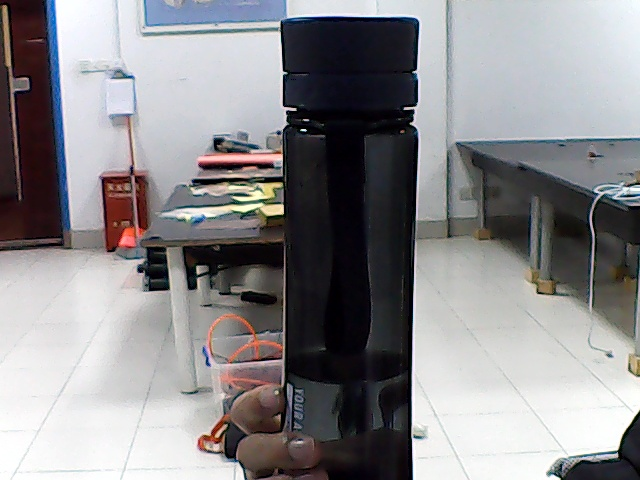cup: (291, 29, 417, 425)
